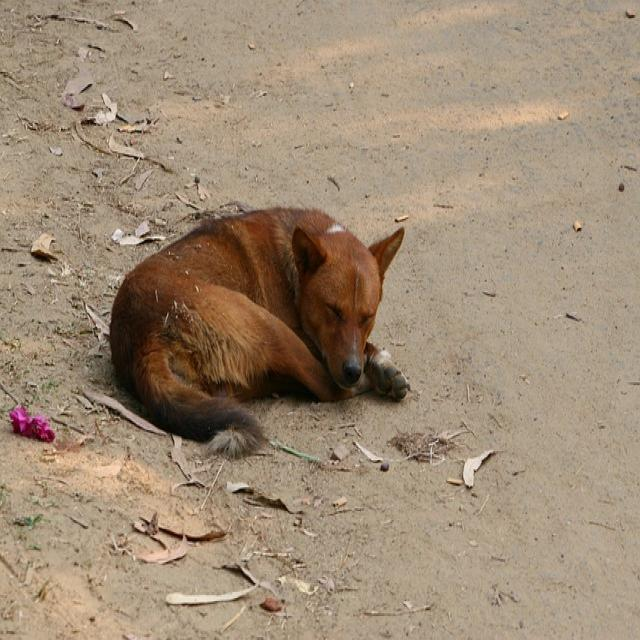laying down: (106, 198, 413, 458)
